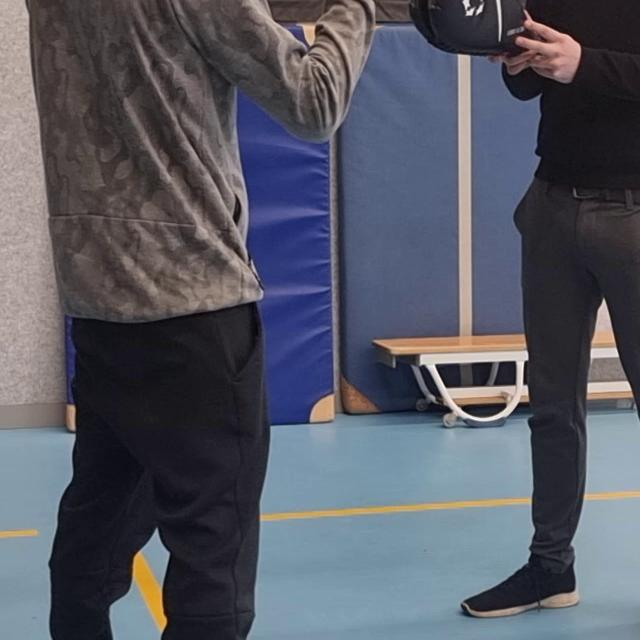paddle: (405, 0, 534, 56)
